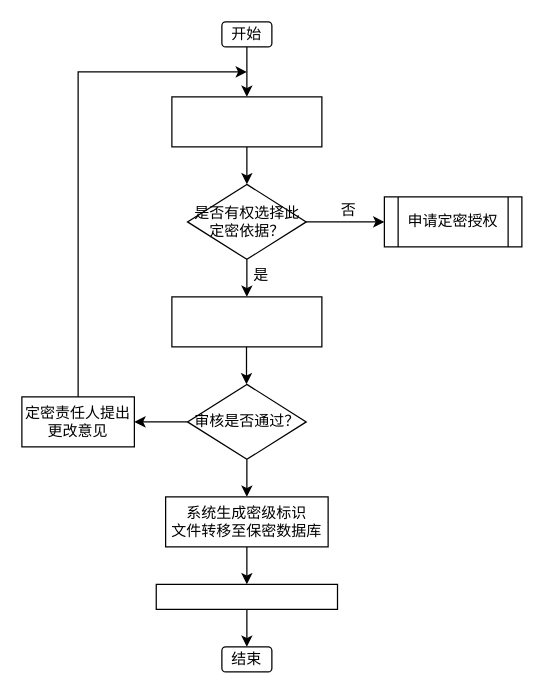
Image size: 544x694. Some labels were removed from this diagram. Each missing label, with the centre of its shape:
"定密责任人审核" belongs at (x=246, y=321).
"承办人选择定密依据" belongs at (x=246, y=121).
"系统保留此次流程的记录" belongs at (x=246, y=596).
